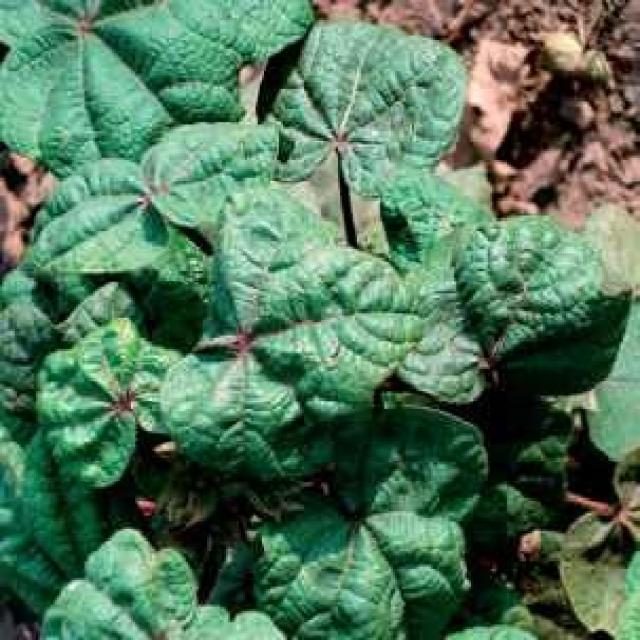Leaf Curl Virus: (60, 51, 507, 516)
